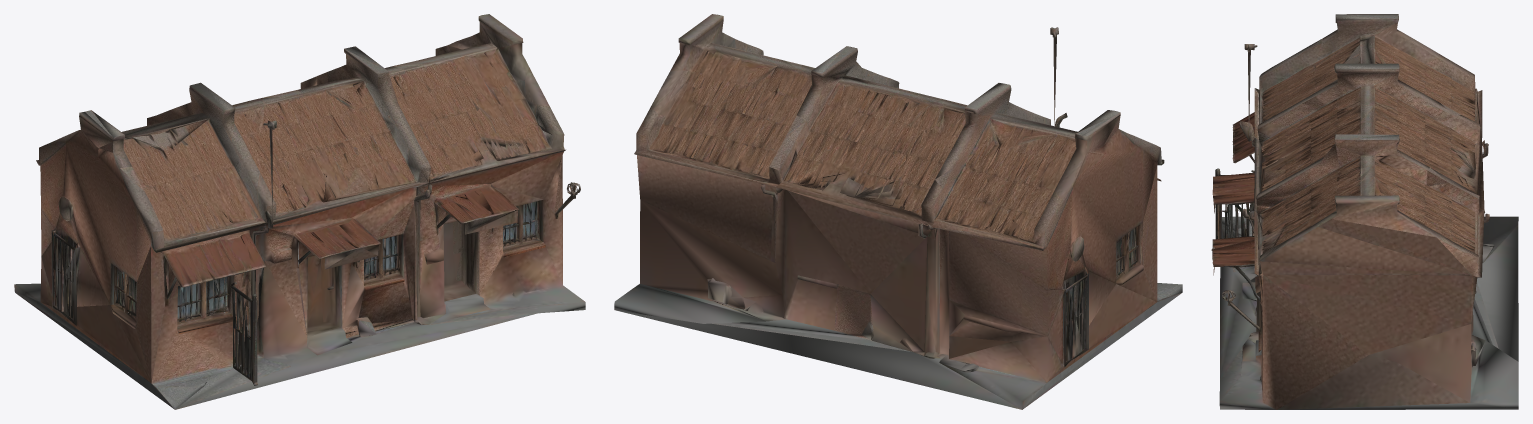
File: lajes_bloco_tijolo.glb
The picture shows the model from 3 angles, left to right: view 1: azimuth 30°, elevation 25°; view 2: azimuth 150°, elevation 25°; view 3: azimuth 270°, elevation 25°; orthographic projection. The views are drawn at different scales.
Visible parts, largest first — view 1: mesh_node; view 2: mesh_node; view 3: mesh_node.
Boxes of the visible parts, x1,y1,x2,y2 form: mesh_node: (14,14,585,409); mesh_node: (614,14,1182,409); mesh_node: (1211,14,1518,409).
Size of the model in its own units: 6.93 by 4 by 4.81.
1 material, 1 textured.
